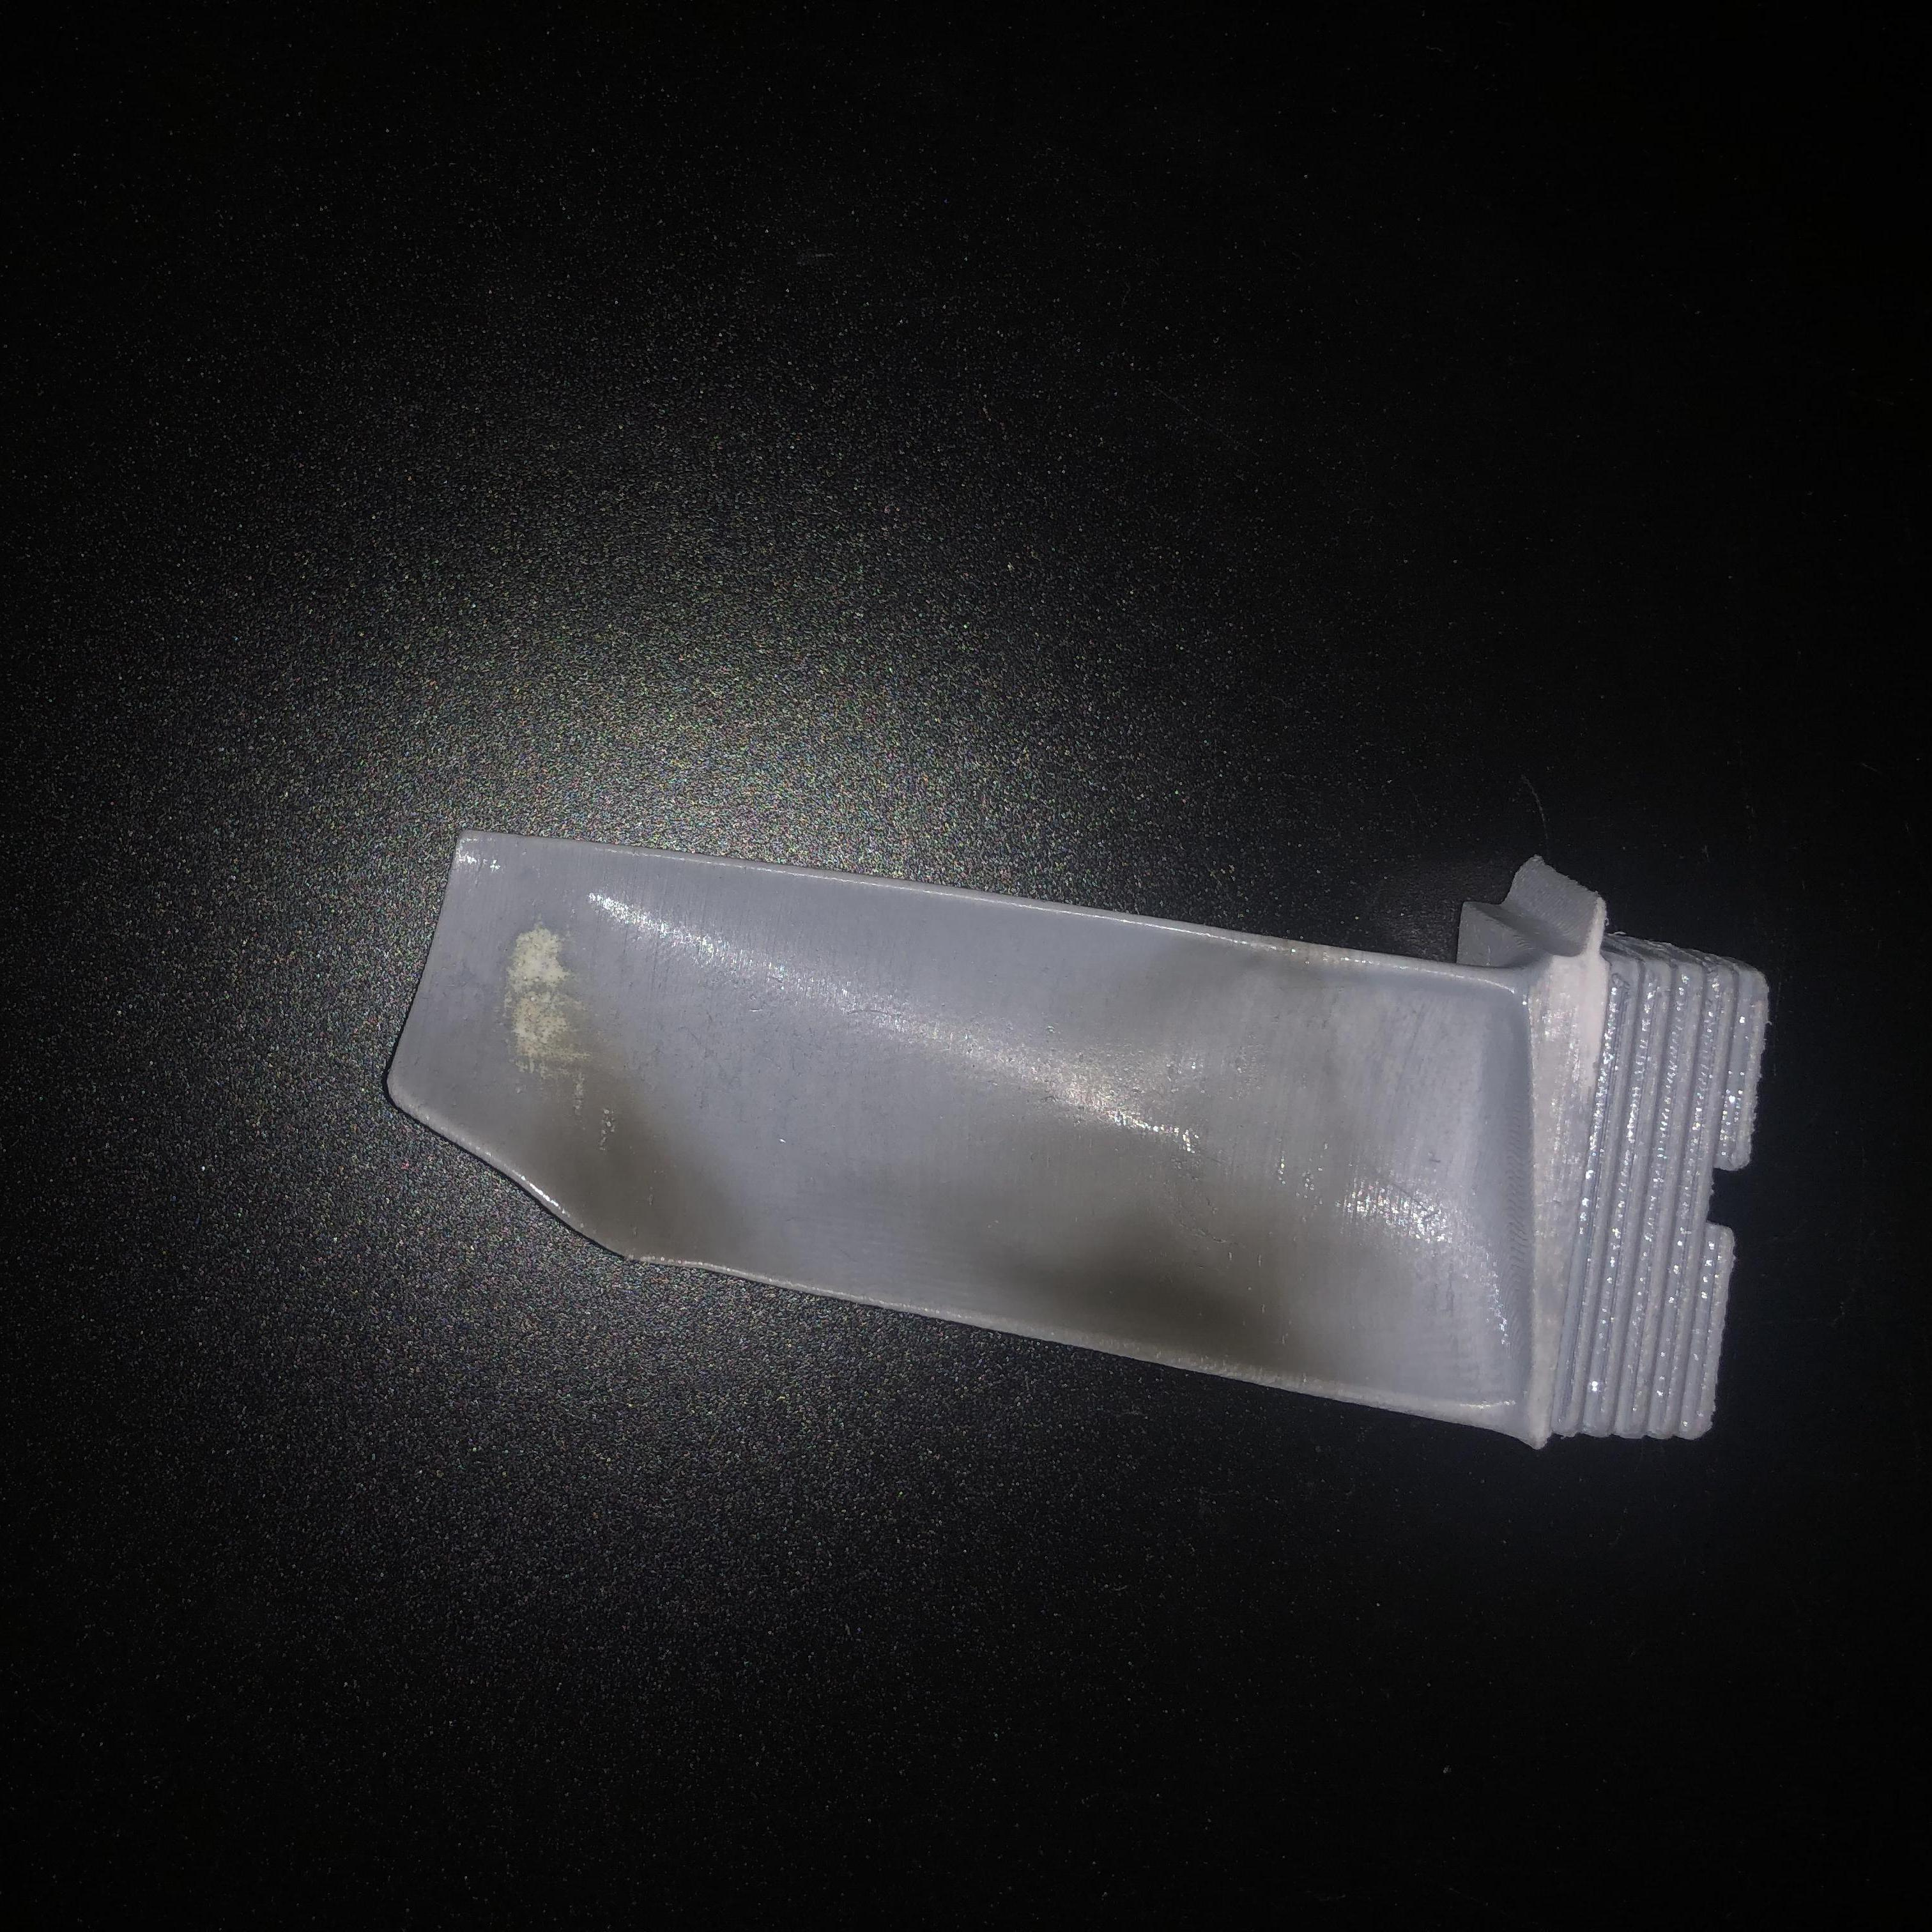ablation: (1042, 1132, 1315, 1364), (527, 1031, 717, 1256)
